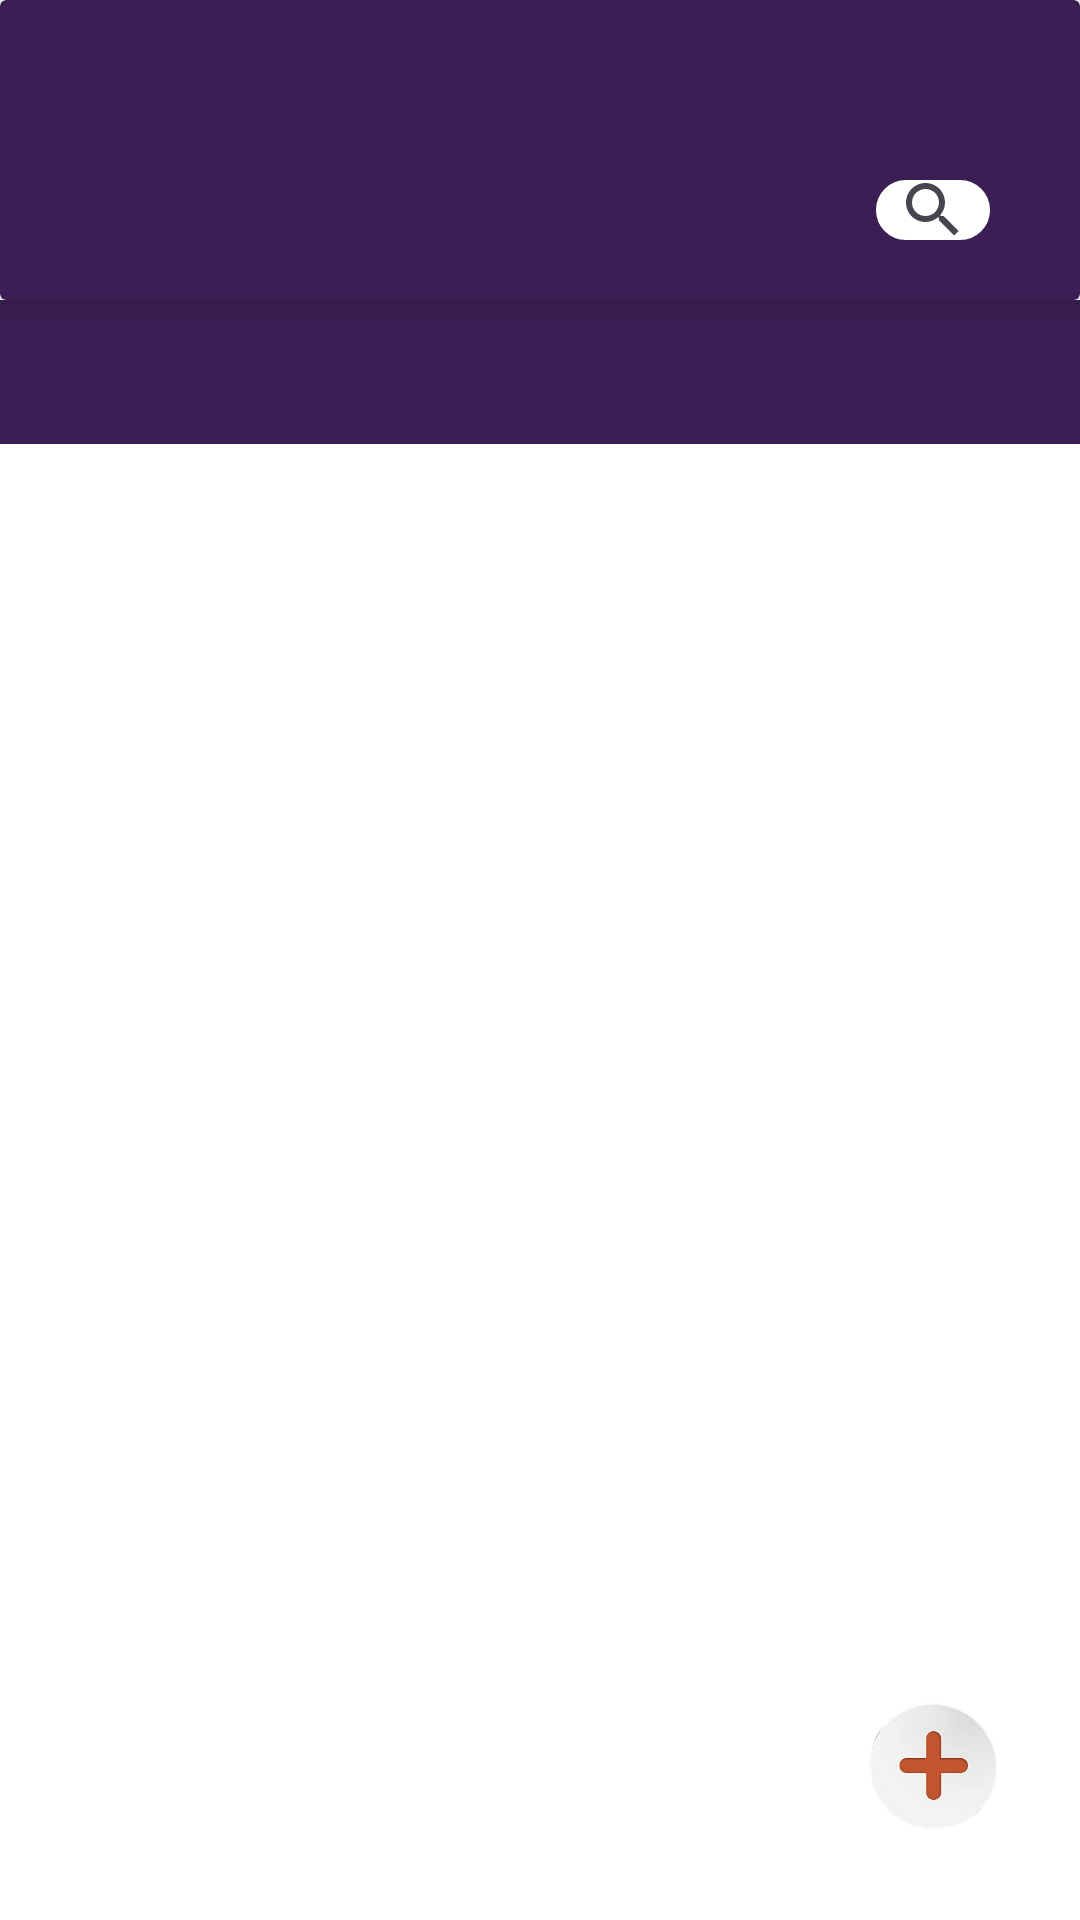

Locate icon controls on the screen. Image size 1080 × 1920, boxes as [x1,y1,x2,y2].
add: [870,1704,996,1829]
